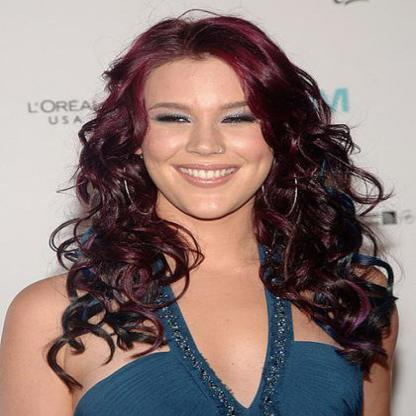long-hair: (48, 223, 387, 301)
